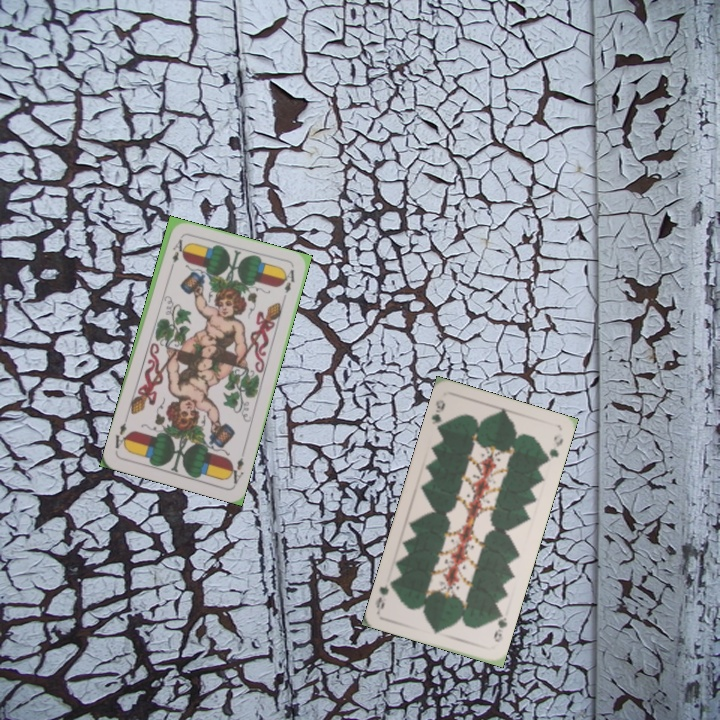EA: (224, 447, 247, 486), (166, 235, 185, 274)
G9: (427, 395, 448, 435), (489, 607, 510, 645)
